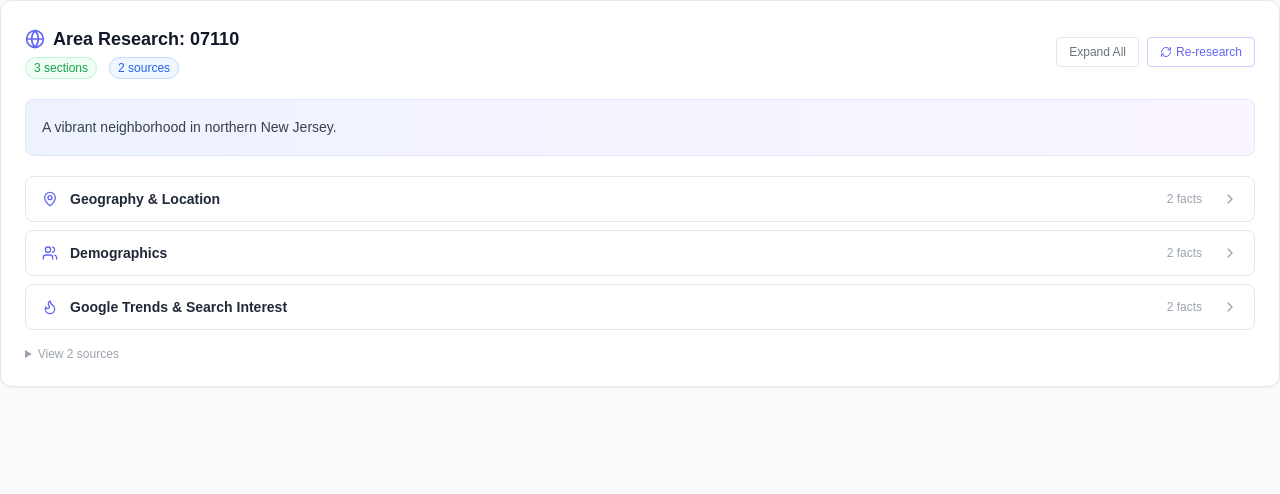
Test: ZipcodeResearch Component › Cached report display › collapses section on second click
Click the text "Geography & Location" at (145, 199), box [70,191,220,207]
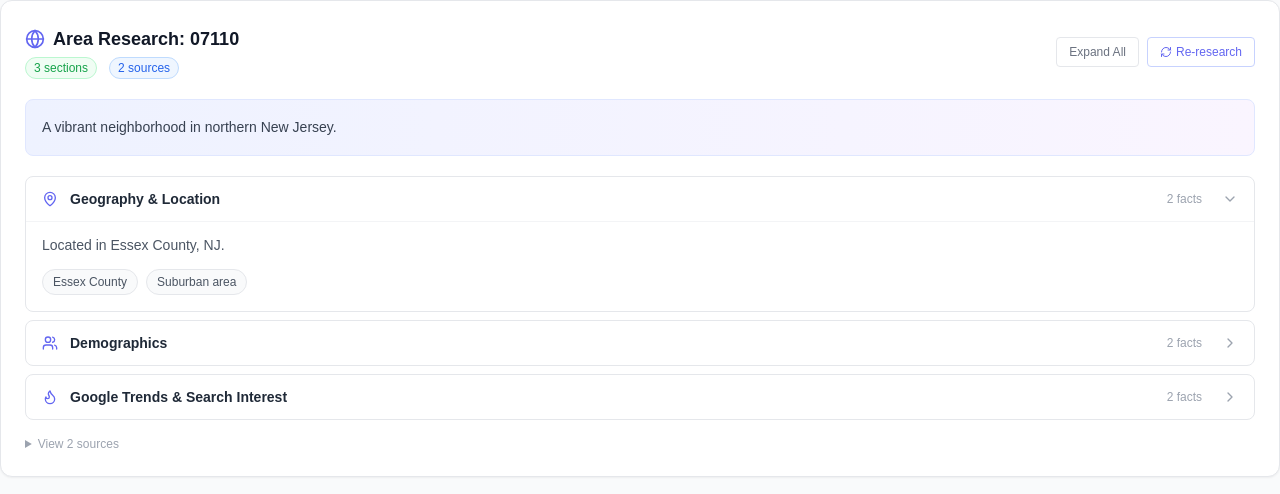
Expected: the text "Located in Essex County, NJ." is shown, [42,237,225,253]
Click the text "Geography & Location" at (145, 199), box [70,191,220,207]
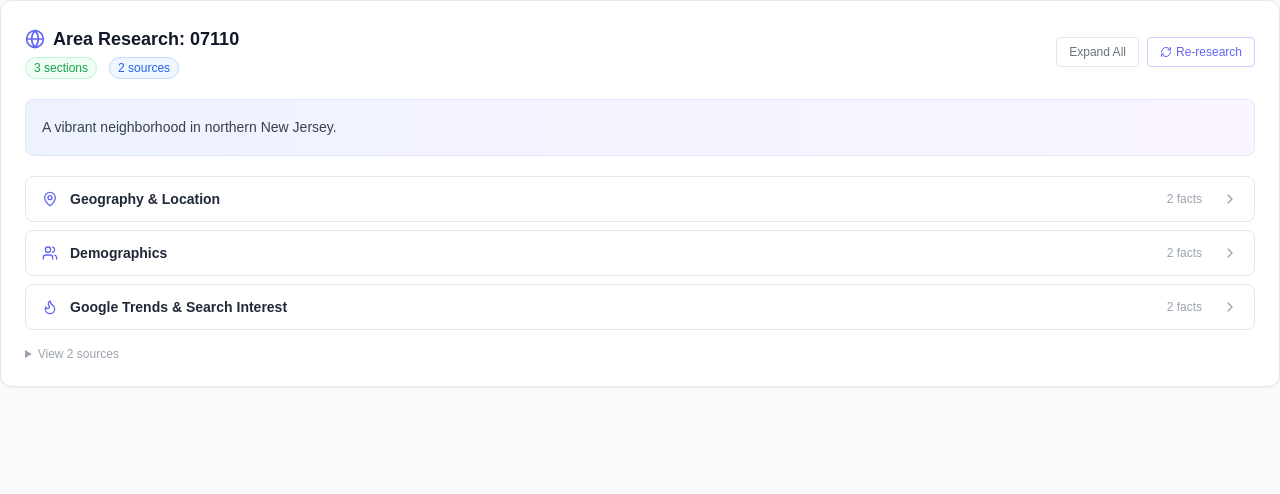
Expected: the text "Located in Essex County, NJ." is gone
